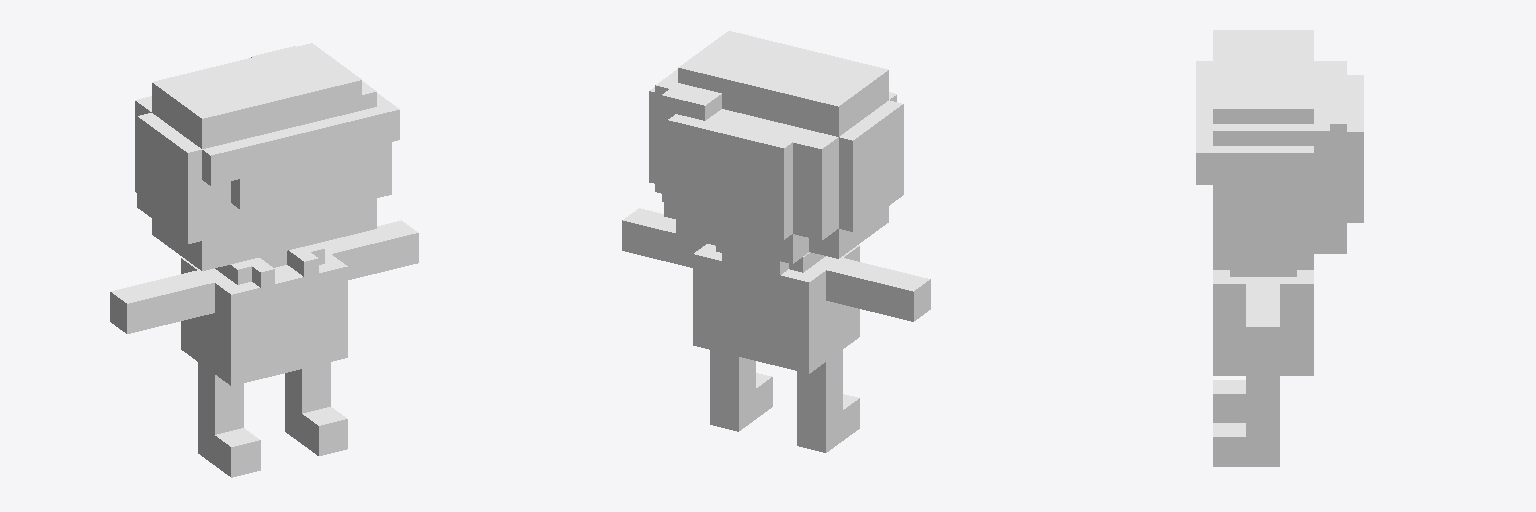
File: OldMan-Good.obj
3 renders of one model, left to right at view 1: azimuth 30°, elevation 25°; view 2: azimuth 150°, elevation 25°; view 3: azimuth 270°, elevation 25°, orthographic.
Visible parts, largest first — view 1: object 1; view 2: object 1; view 3: object 1.
Part boxes in pixels (bbox=[...]): object 1: bbox=[110, 43, 418, 477]; object 1: bbox=[622, 31, 930, 452]; object 1: bbox=[1196, 30, 1363, 466].
Size of the model in its own units: 2 by 2.4 by 1.